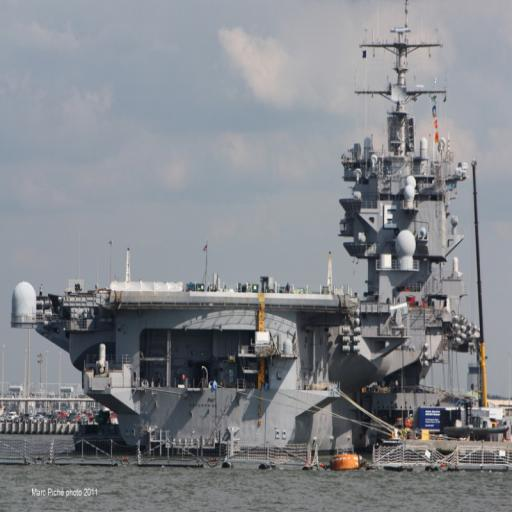Portanaves: (12, 12, 470, 460)
